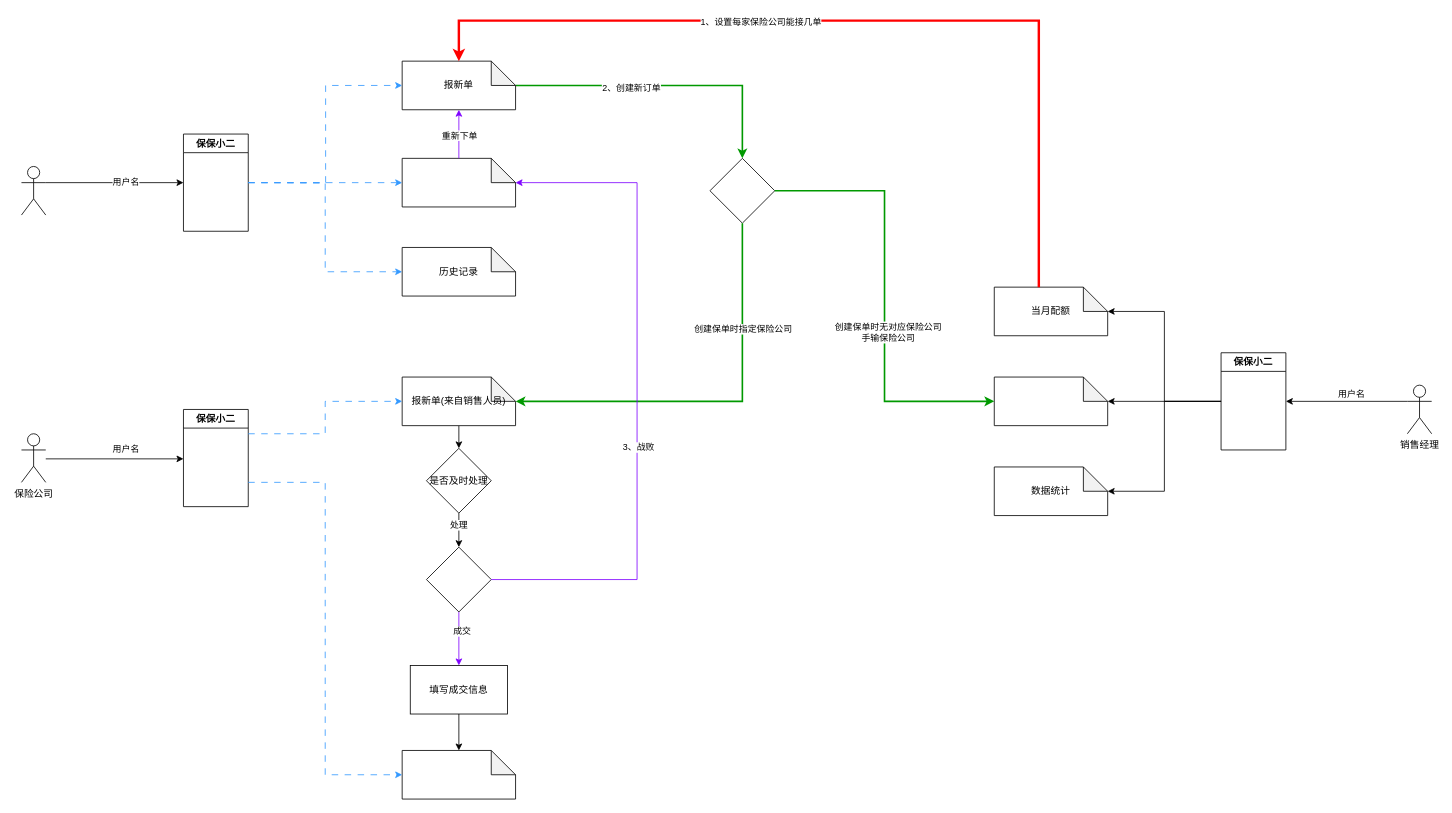
The diagram is 1452 pixels wide and 813 high, and some of its shapes have lost their labels. The centre of each missing label's shape, as x and y in pixels:
个人中心: [458,774]
战败单: [458,182]
是否 指定保险公司: [742,190]
是否成交: [458,579]
特殊订单 报单时指定保险公司的: [1050,401]
销售人员: [33,190]
